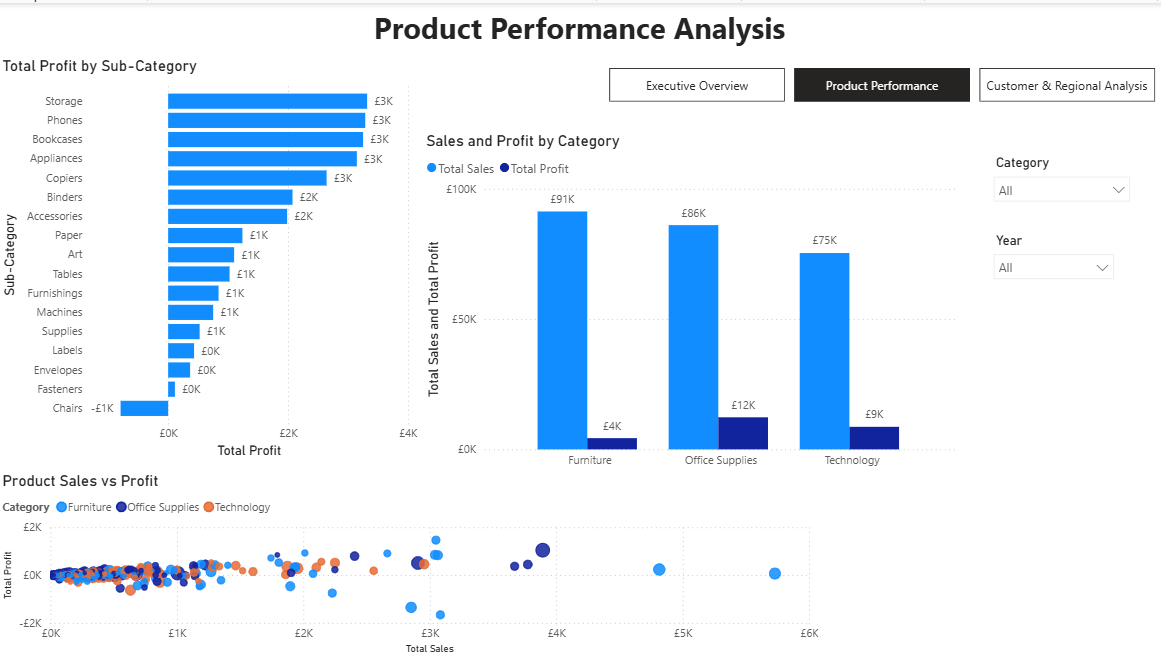

The page's visual inventory and layout, read from the dashboard file:
{"tool":"powerbi","page":{"name":"Product Performance","canvas":[1280,720],"ordinal":1},"visuals":[{"type":"textbox","box":[407.5,0,487.1,59],"z":0},{"type":"clusteredBarChart","fields":{"Category":["Dim Product.Sub-Category"],"Y":["_Measures.Total Profit"]},"box":[0,59,465.2,446],"z":1000},{"type":"clusteredColumnChart","title":"Sales and Profit by Category","fields":{"Category":["Dim Product.Category"],"Y":["_Measures.Total Sales","_Measures.Total Profit"]},"box":[465.2,141.3,592.8,392.5],"z":2000},{"type":"slicer","fields":{"Values":["Dim Product.Category"]},"box":[1082.7,161.9,170.2,70],"z":3000},{"type":"scatterChart","title":"Product Sales vs Profit","fields":{"X":["_Measures.Total Sales"],"Y":["_Measures.Total Profit"],"Category":["Dim Product.Product Name"],"Series":["Dim Product.Category"],"Size":["_Measures.Total Quantity"]},"box":[0,514.6,905.7,205.8],"z":4000},{"type":"slicer","fields":{"Values":["Dim Date.Year"]},"box":[1082.7,247,152.3,70],"z":5000},{"type":"pageNavigator","box":[671,71.4,599.7,37],"z":6000}]}

Visuals, with their boxes in screenshot pixels (x1, y1, x2, y2), scaled from the page's 1280x720 canvas onto the 1161x657 screenshot:
textbox: (370, 0, 811, 54)
clusteredBarChart - Dim Product.Sub-Category x _Measures.Total Profit: (0, 54, 422, 461)
"Sales and Profit by Category" clusteredColumnChart: (422, 129, 960, 487)
slicer - Dim Product.Category: (982, 148, 1136, 212)
"Product Sales vs Profit" scatterChart: (0, 470, 821, 656)
slicer - Dim Date.Year: (982, 225, 1120, 289)
pageNavigator: (609, 65, 1153, 99)
